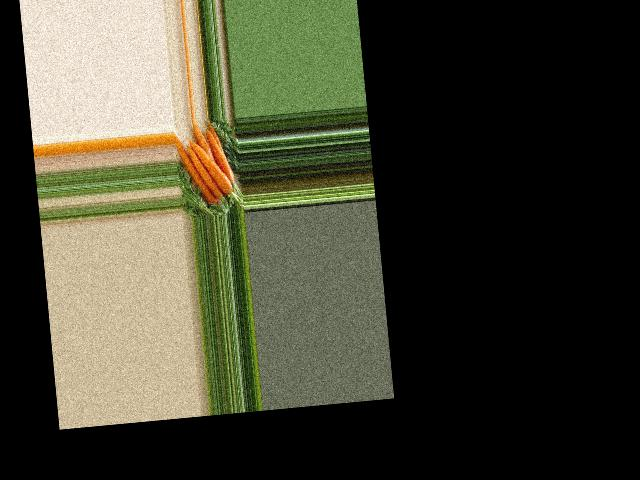carrot: (173, 130, 218, 212)
